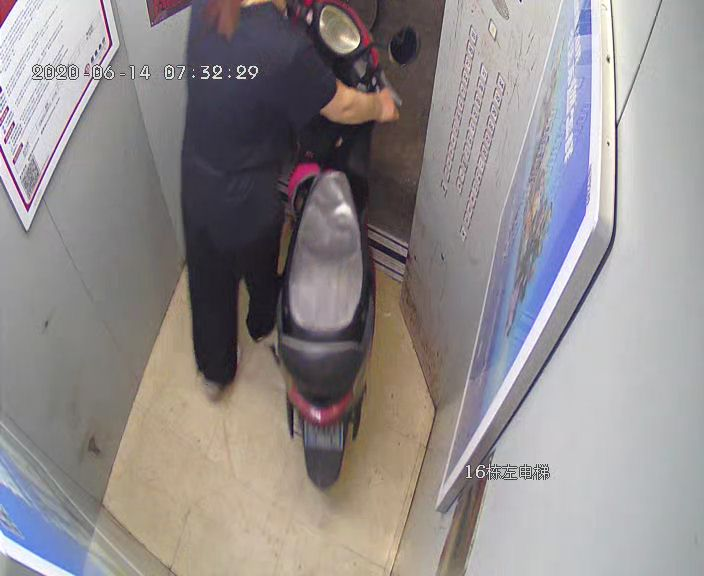Electric-bicycle: (269, 1, 419, 482)
